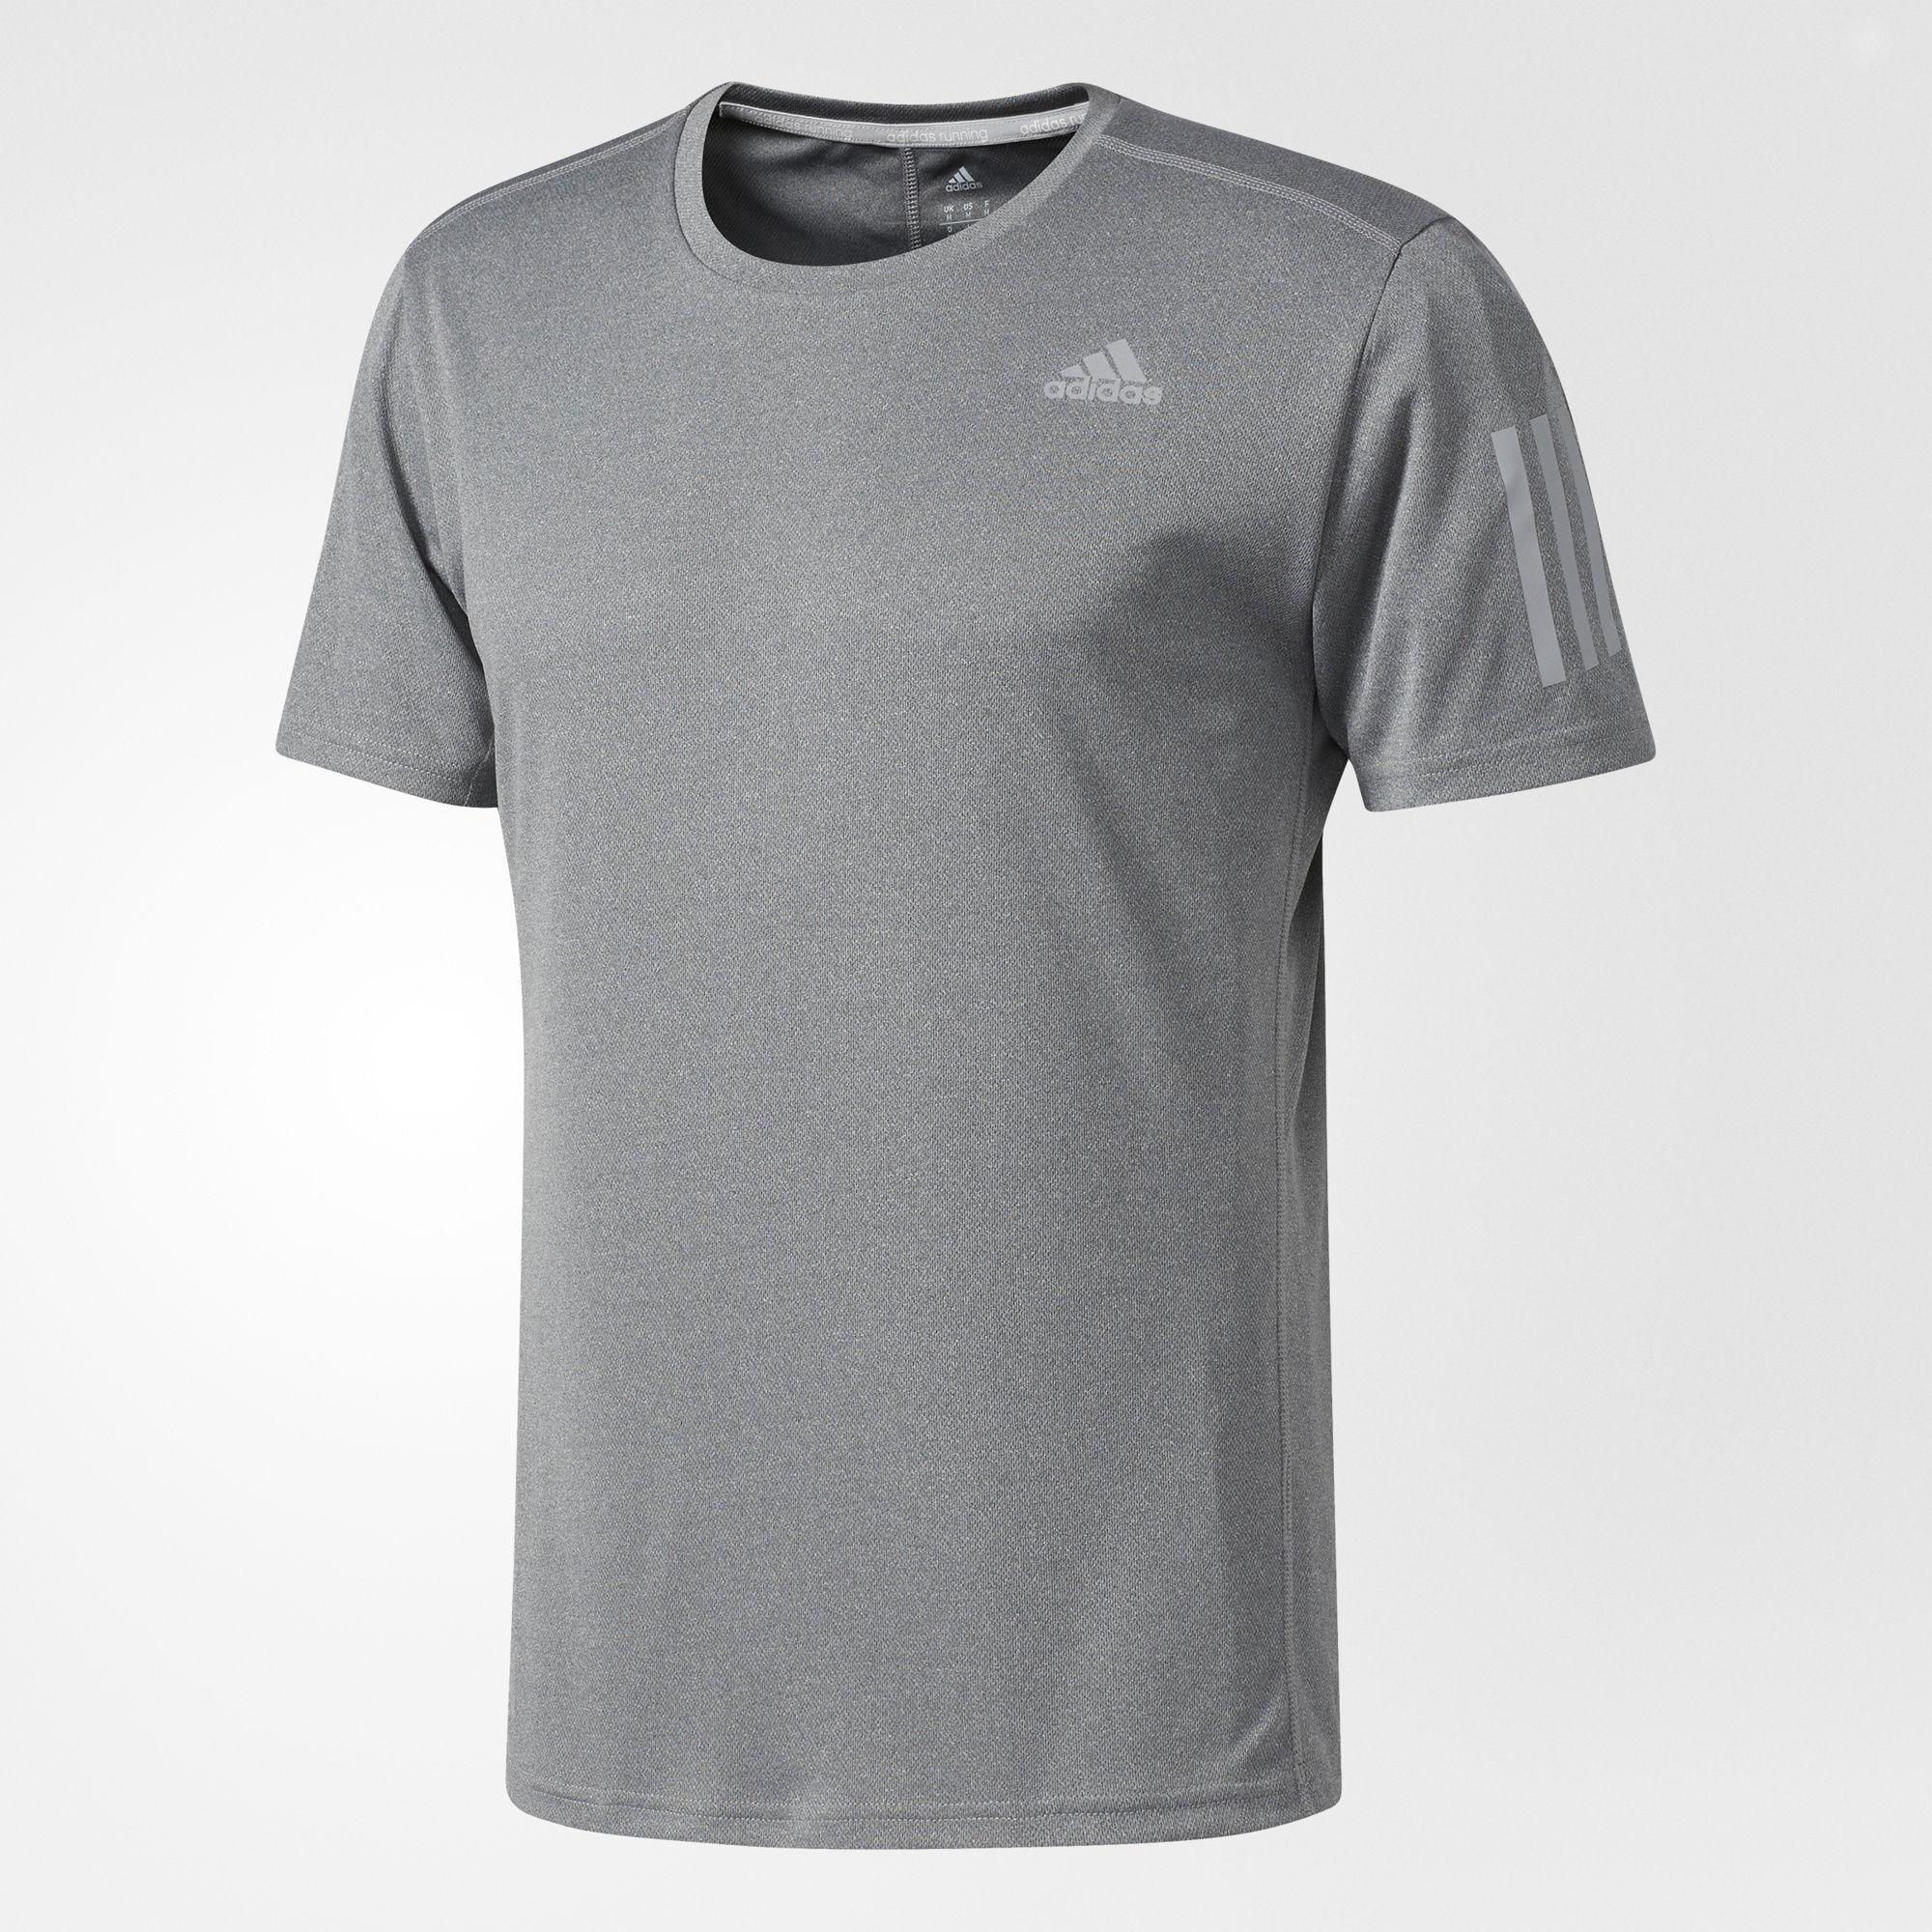teeshirt: (173, 81, 1663, 1920)
